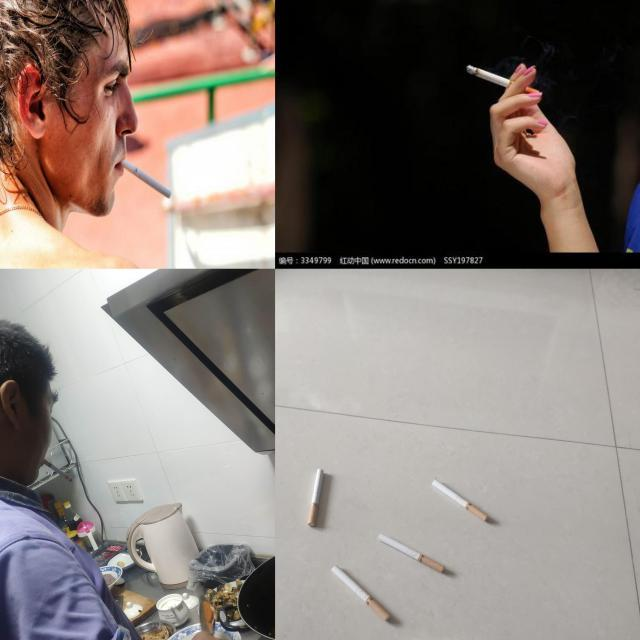smoke: (331, 564, 392, 622), (378, 534, 446, 574), (465, 64, 542, 97), (432, 480, 490, 522), (120, 157, 173, 200), (308, 468, 325, 527), (42, 458, 74, 483)
